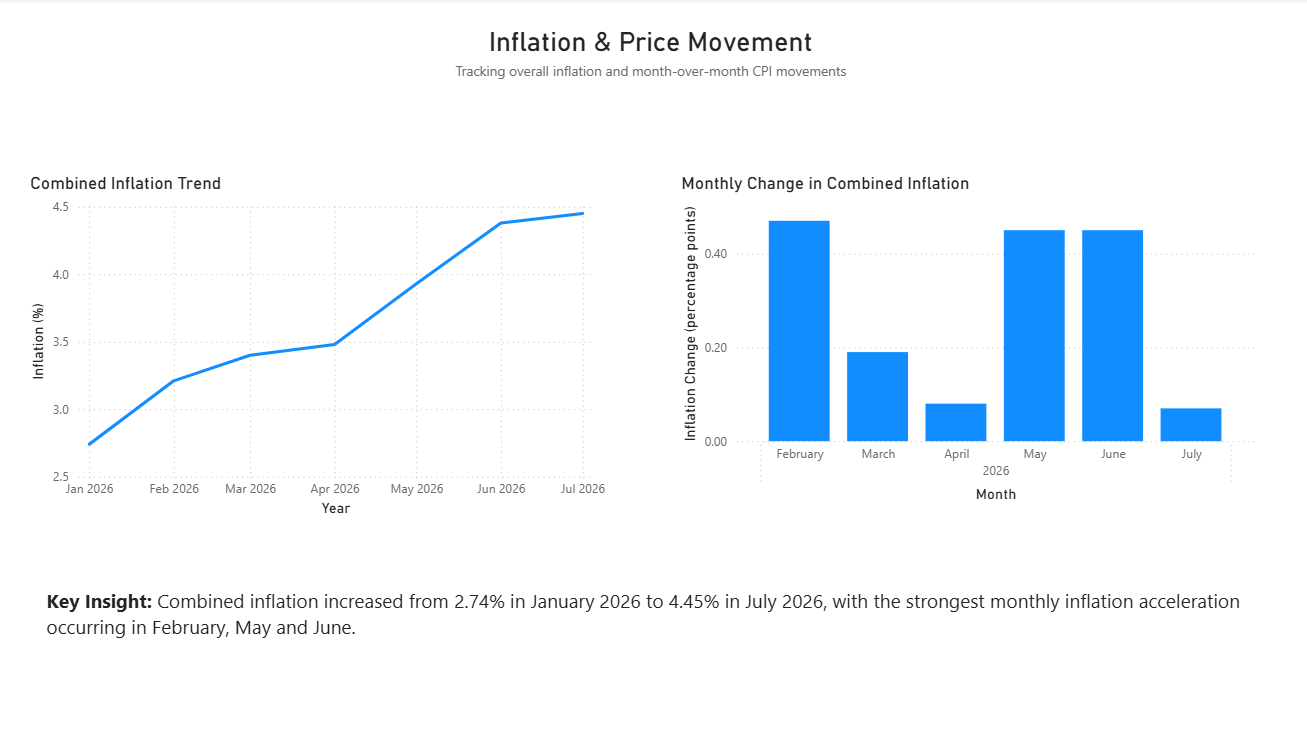

The page's visual inventory and layout, read from the dashboard file:
{"tool":"powerbi","page":{"name":"Page 3","canvas":[1280,720],"ordinal":2},"visuals":[{"type":"lineChart","title":"Combined Inflation Trend","fields":{"Category":["Table1.month.Variation.Date Hierarchy.Year","Table1.month.Variation.Date Hierarchy.Month"],"Y":["Avg(Table1.combined_inflation)"]},"box":[25.7,171.4,572.5,341.1],"z":0},{"type":"clusteredColumnChart","title":"Monthly Change in Combined Inflation","fields":{"Category":["Table1.month.Variation.Date Hierarchy.Year","Table1.month.Variation.Date Hierarchy.Month"],"Y":["Avg(Table1.Inflation_MoM_Change)"]},"box":[663.3,171.4,570.8,327.4],"z":1000},{"type":"textbox","box":[41.6,572.3,1192.3,126],"z":2000},{"type":"textbox","title":"Inflation & Price Movement","box":[41.6,26.9,1192.3,91.7],"z":3000}]}

Visuals, with their boxes in screenshot pixels (x1, y1, x2, y2), scaled from the page's 1280x720 canvas onto the 1307x732 screenshot:
"Combined Inflation Trend" lineChart: rect(26, 174, 611, 521)
"Monthly Change in Combined Inflation" clusteredColumnChart: rect(677, 174, 1260, 507)
textbox: rect(42, 582, 1260, 710)
"Inflation & Price Movement" textbox: rect(42, 27, 1260, 121)
